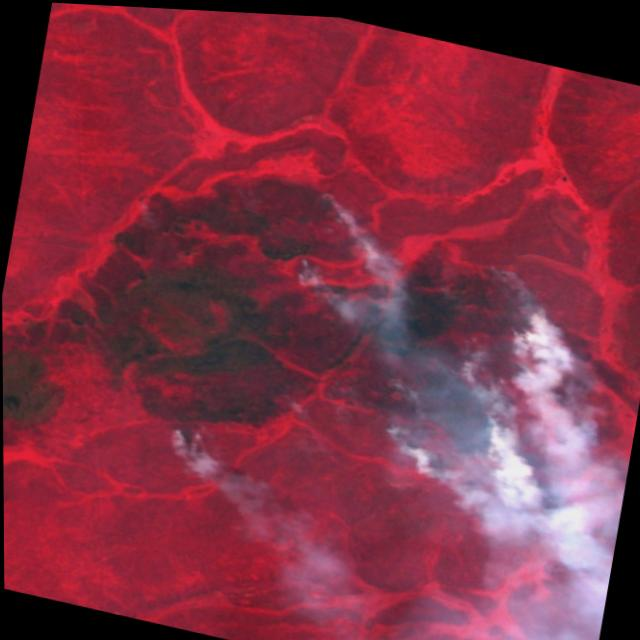fire: (150, 150, 576, 545)
